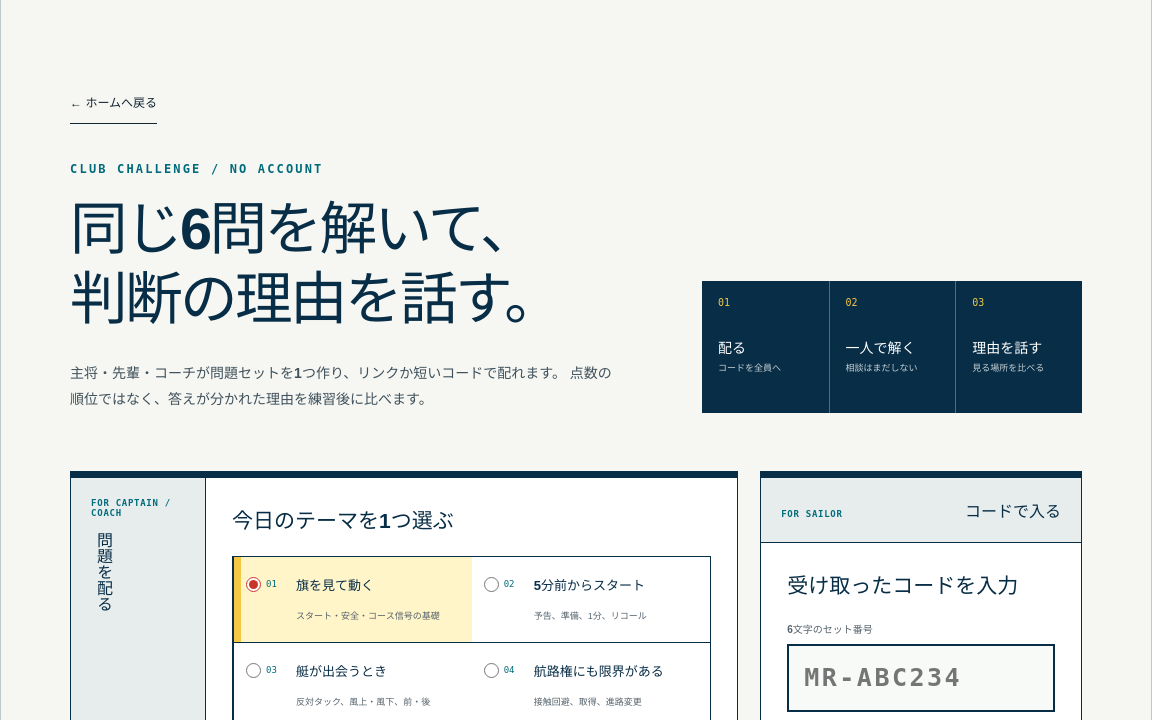
it: TeamChallenge › 壊れたコードには入力例を示す
This screenshot has width=1152, height=720.
Type "wrong" into the field labelled "6文字のセット番号" at [921, 678], box [787, 644, 1055, 712]
(page scrolled)
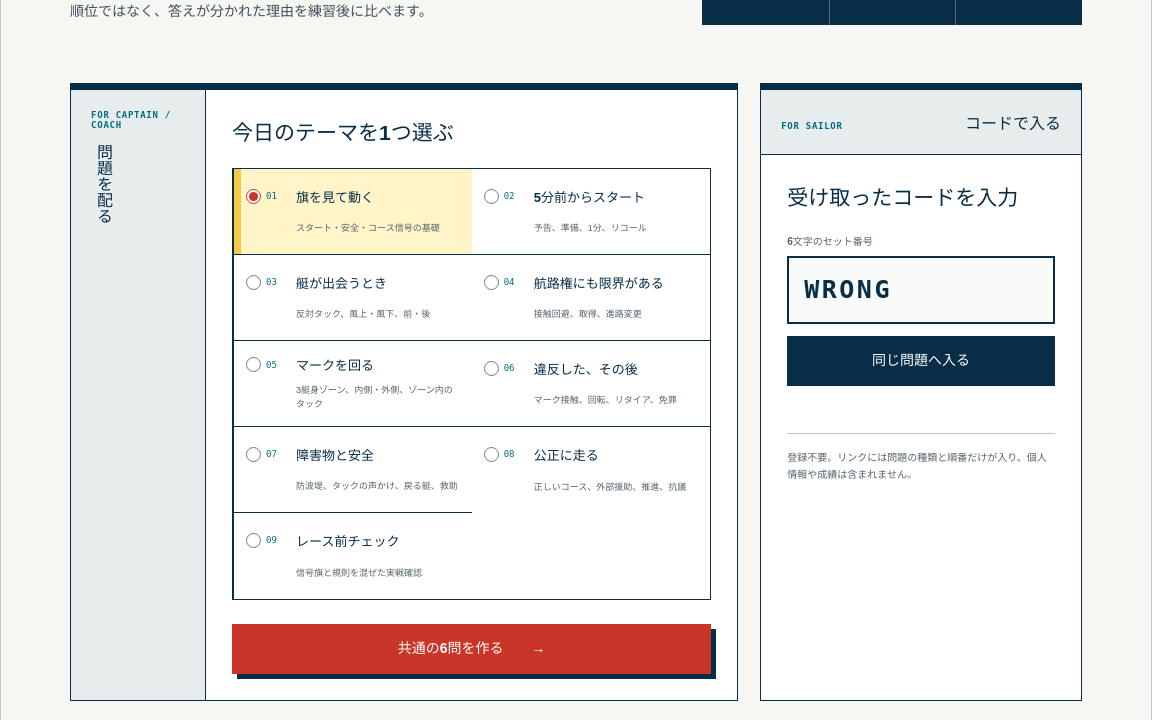
Click the button "同じ問題へ入る" at [921, 361], box [787, 336, 1055, 386]
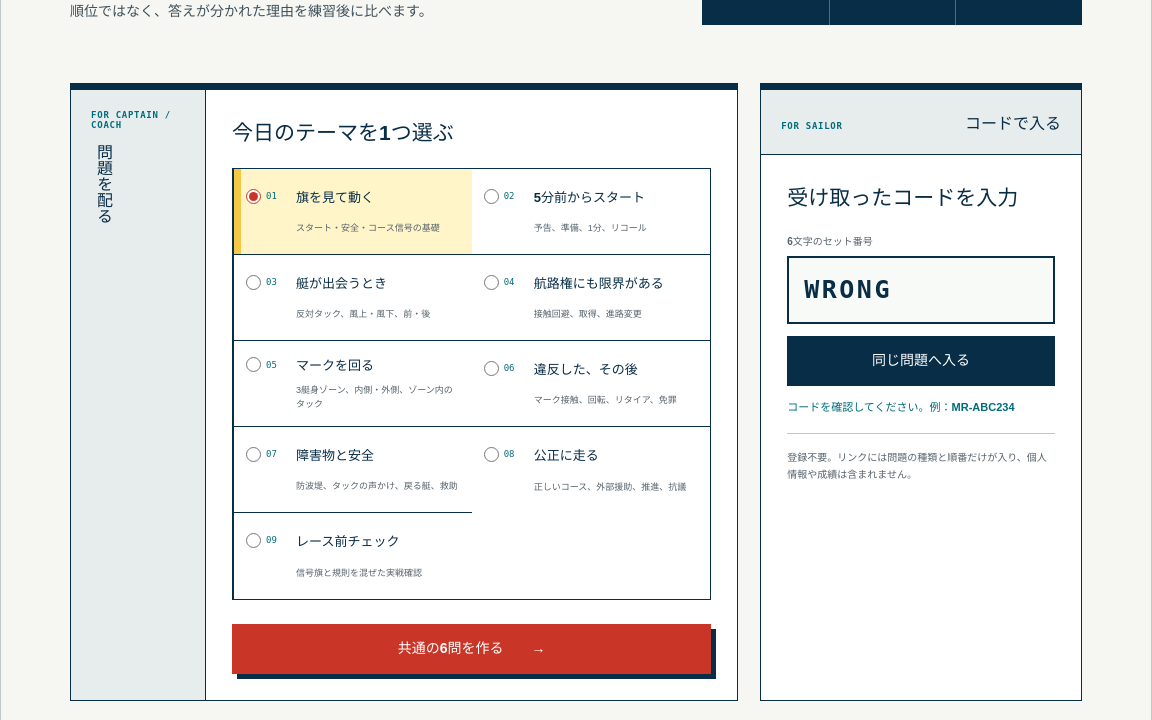
Expected: the text "コードを確認してください。例：MR-ABC234" is shown, [787, 401, 1014, 413]
